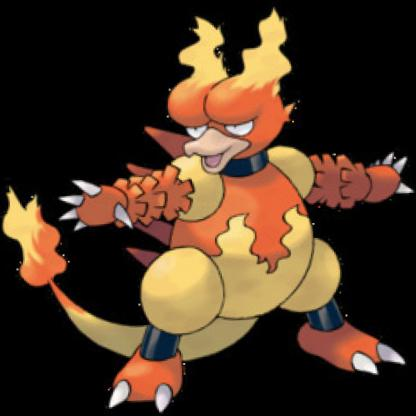Magmar: (1, 1, 416, 416), (9, 1, 416, 416)
